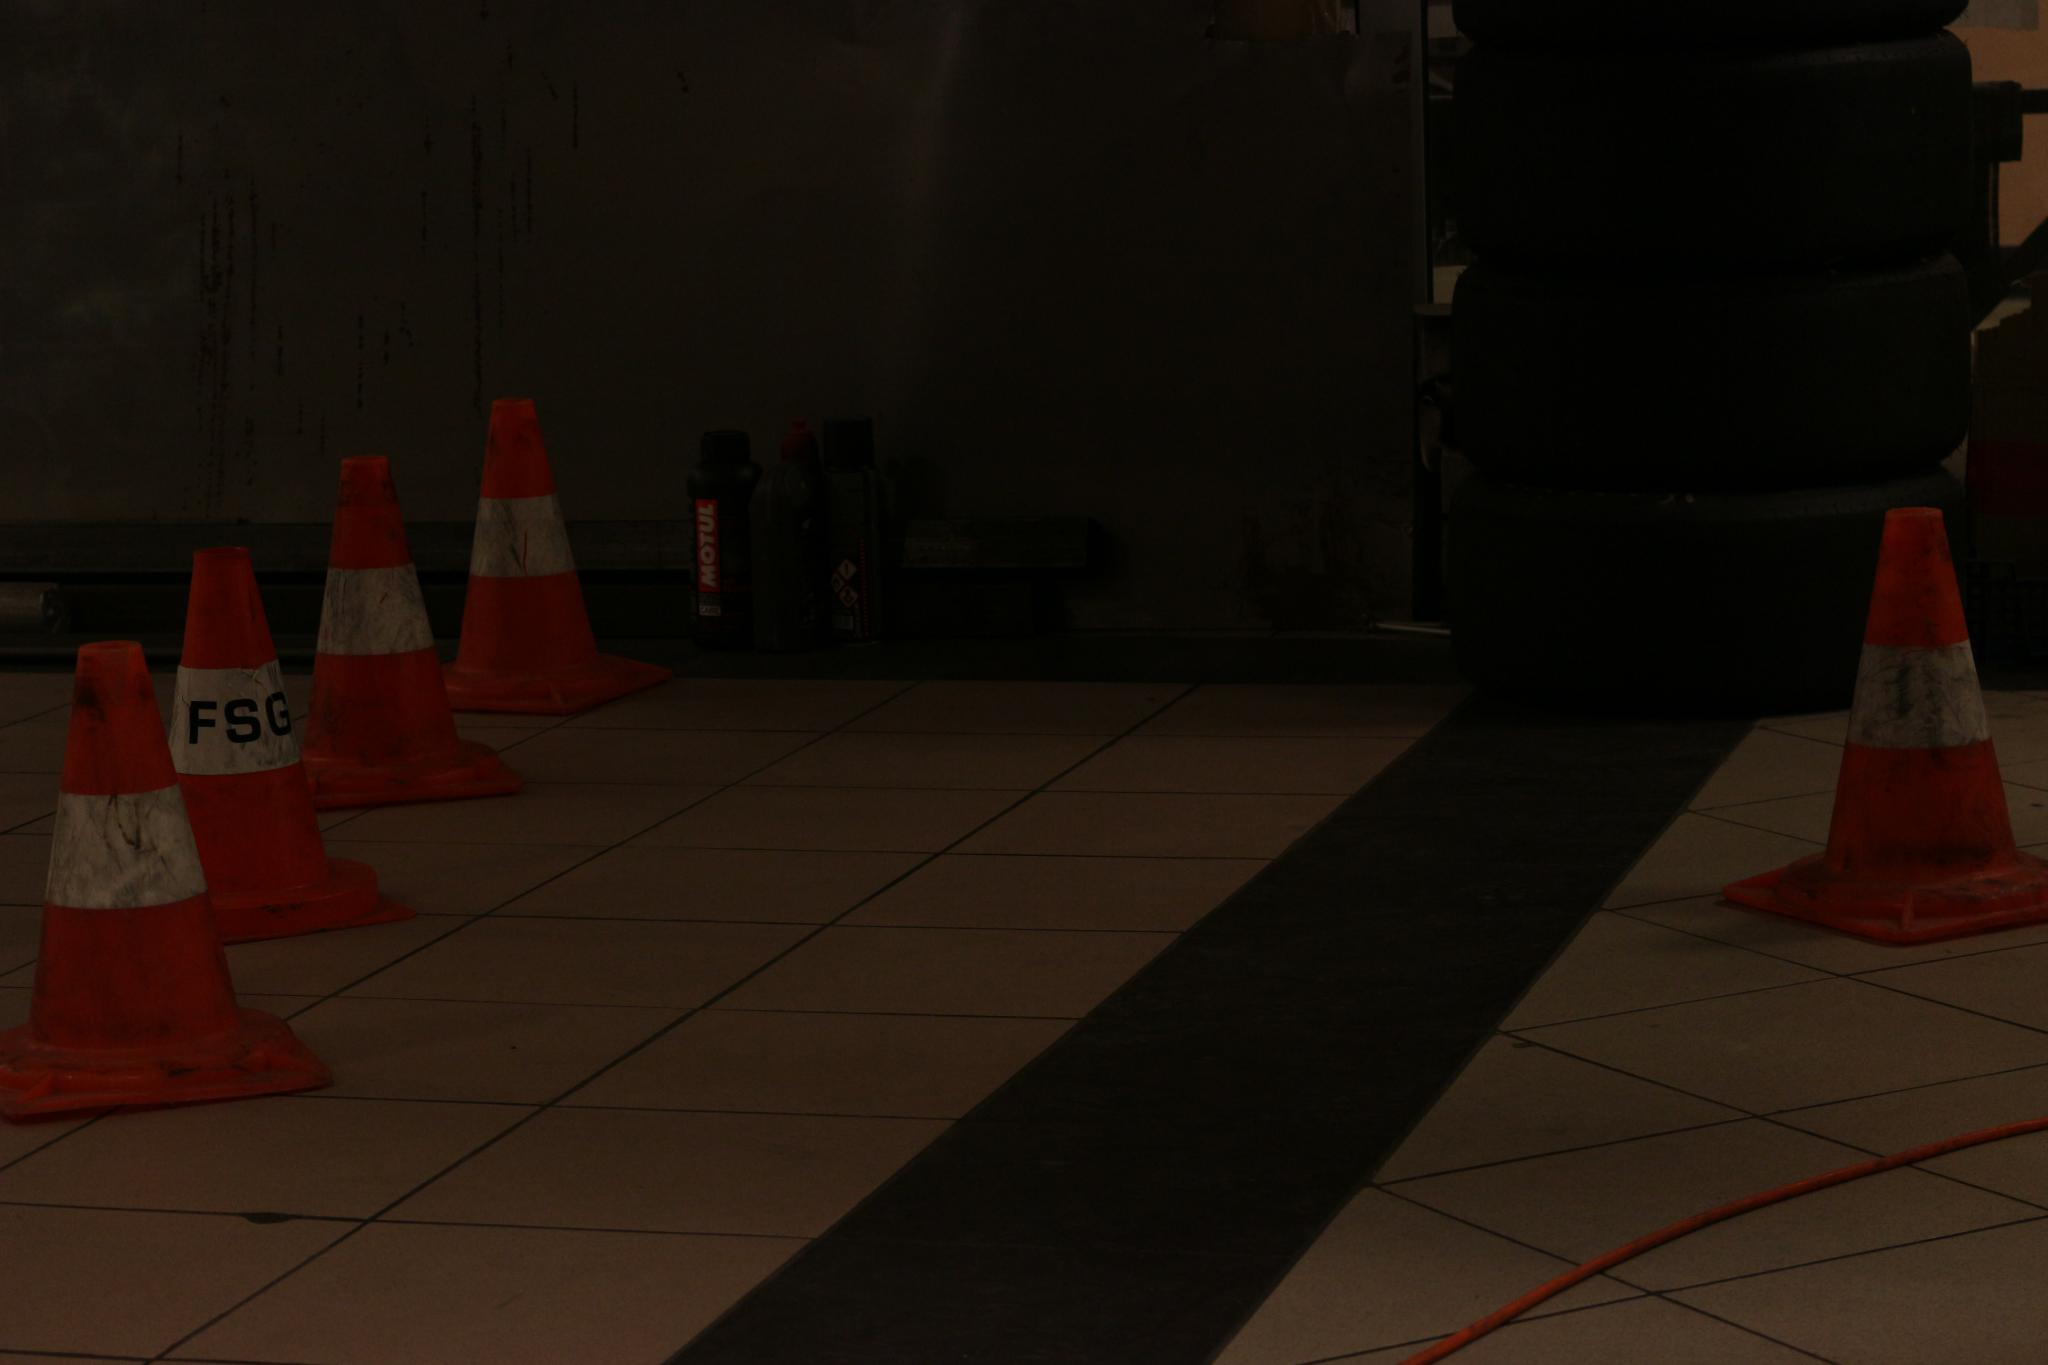Orange_Cone: (0, 641, 323, 1104), (1748, 491, 2048, 938), (120, 544, 381, 931), (274, 456, 512, 801), (428, 398, 636, 718)
